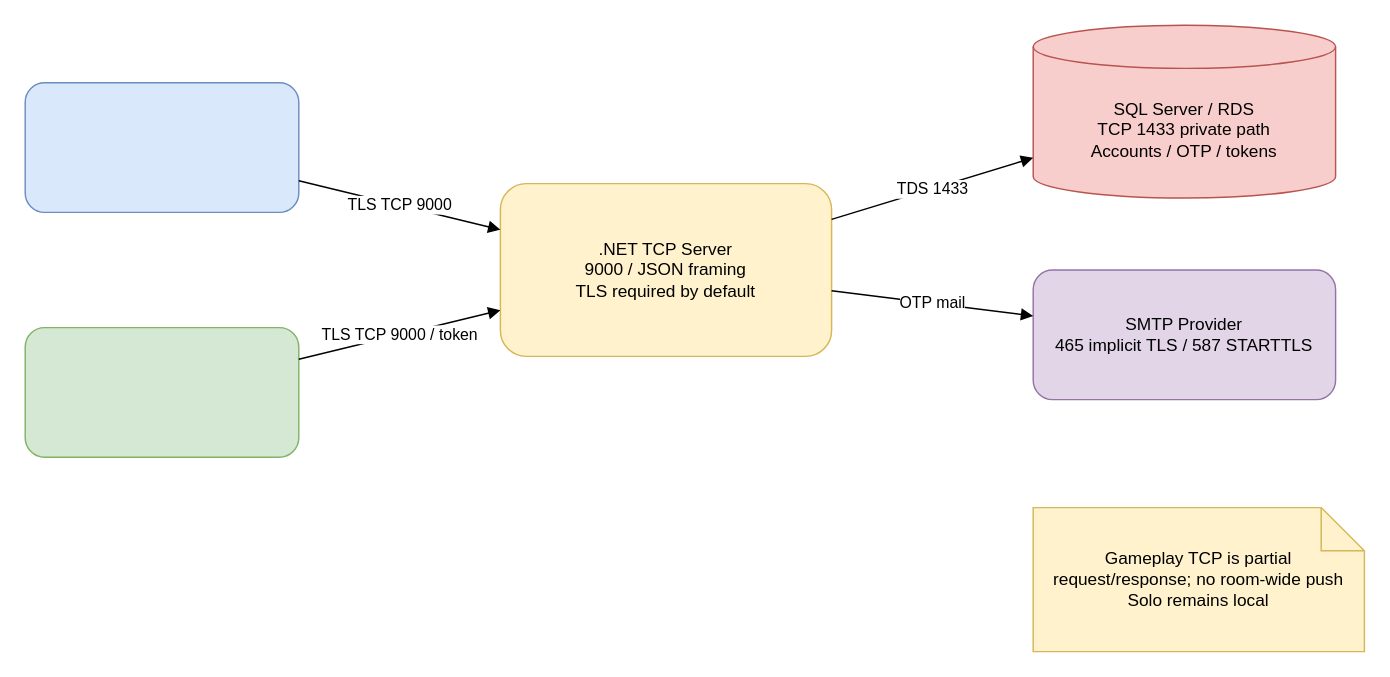
Image size: 1390x677. Some labels were removed from this diagram. Each missing label, with the centre of its shape:
Unity Client Solo / GUI: point 161,391
WinForms Launcher Login / OTP / UI: point 161,146
